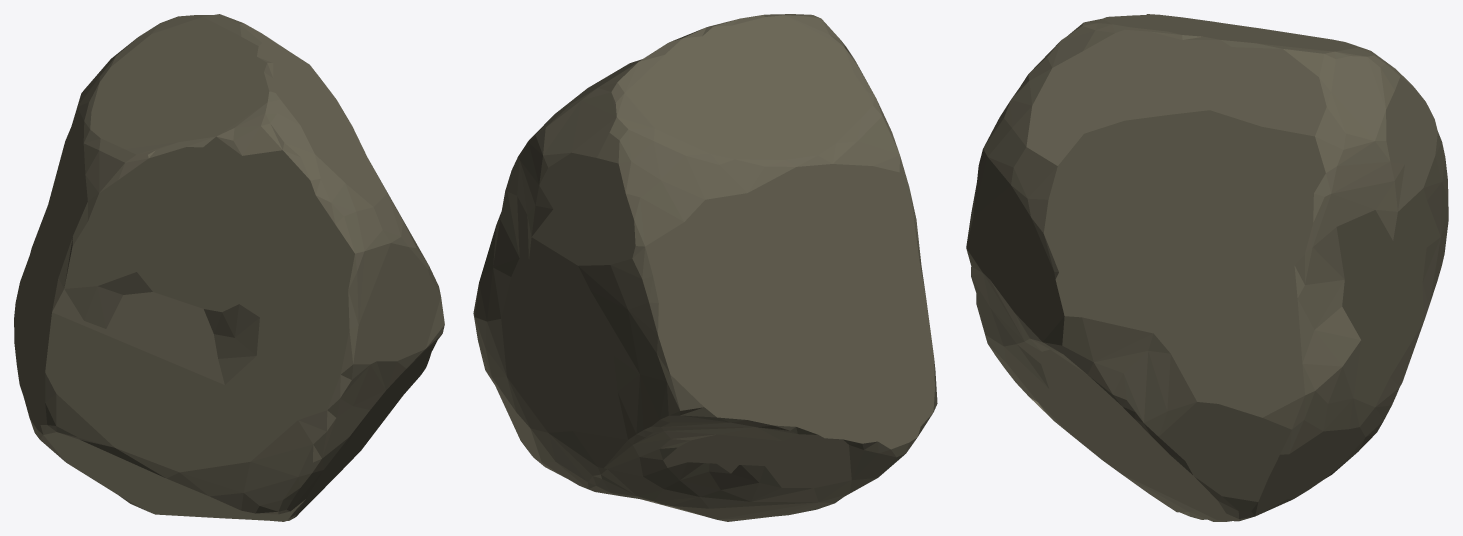
The picture shows the model from 3 angles, left to right: view 1: azimuth 30°, elevation 25°; view 2: azimuth 150°, elevation 25°; view 3: azimuth 270°, elevation 25°; orthographic projection. The views are drawn at different scales.
Visible parts, largest first — view 1: Cube; view 2: Cube; view 3: Cube.
Part boxes in pixels (x1=…): Cube: x1=14, y1=14, x2=444, y2=521; Cube: x1=473, y1=14, x2=937, y2=521; Cube: x1=966, y1=14, x2=1448, y2=521.
Bounding box in the file's own units: 2.77 × 3.13 × 2.93.
